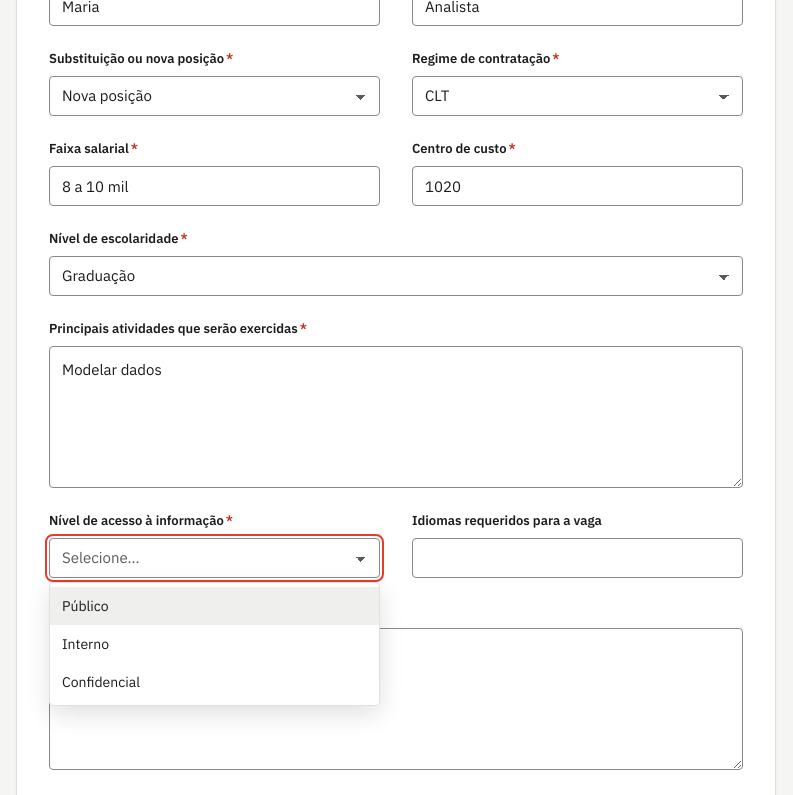
Test: Requisição › envia a Contratação e mostra a confirmação com os valores legíveis
The width and height of the screenshot is (793, 795).
Earlier steps of the test are not shown.
(page scrolled)
Click the option "Interno".
click(86, 644)  # box x1=62 y1=635 x2=109 y2=653
(page scrolled)
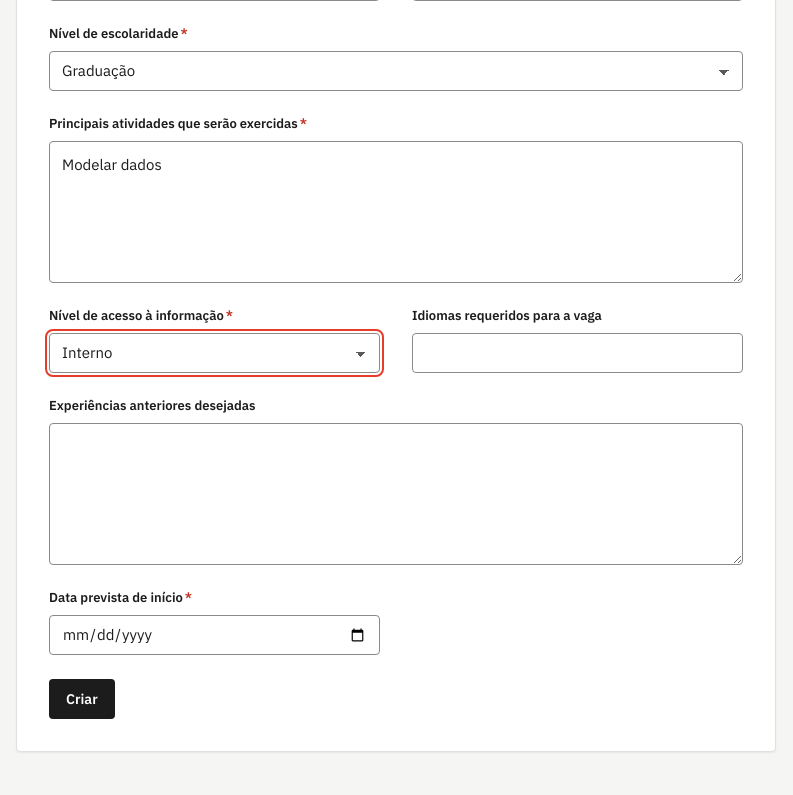
Type "2027-02-01" into the date field labelled "Data prevista de início*".
click(214, 635); type("2027-02-01")  # box x1=49 y1=615 x2=380 y2=655
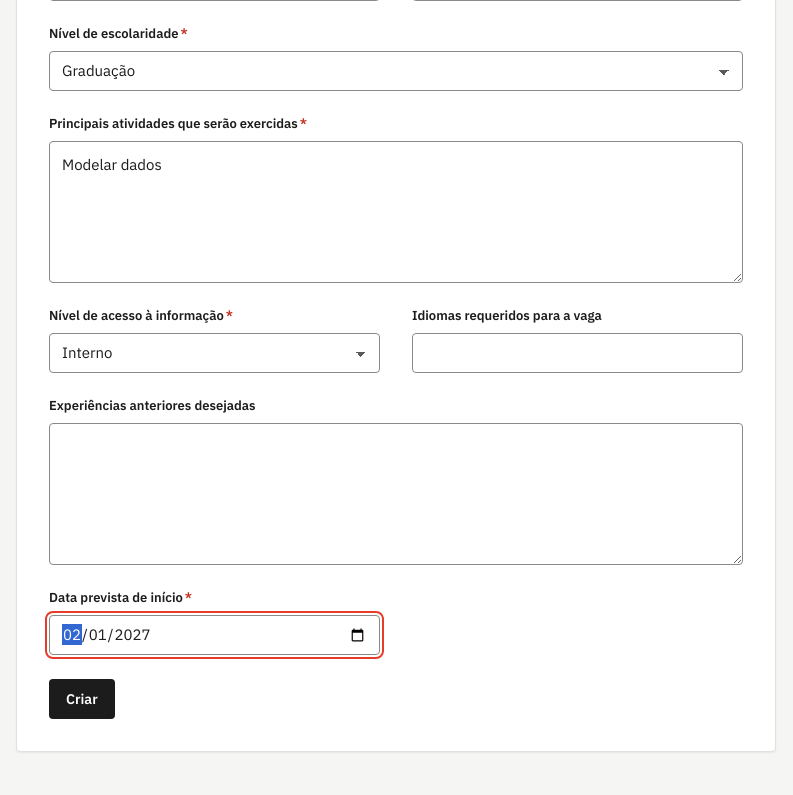
Click the button "Criar".
click(82, 699)  # box x1=49 y1=679 x2=115 y2=719
(page scrolled)
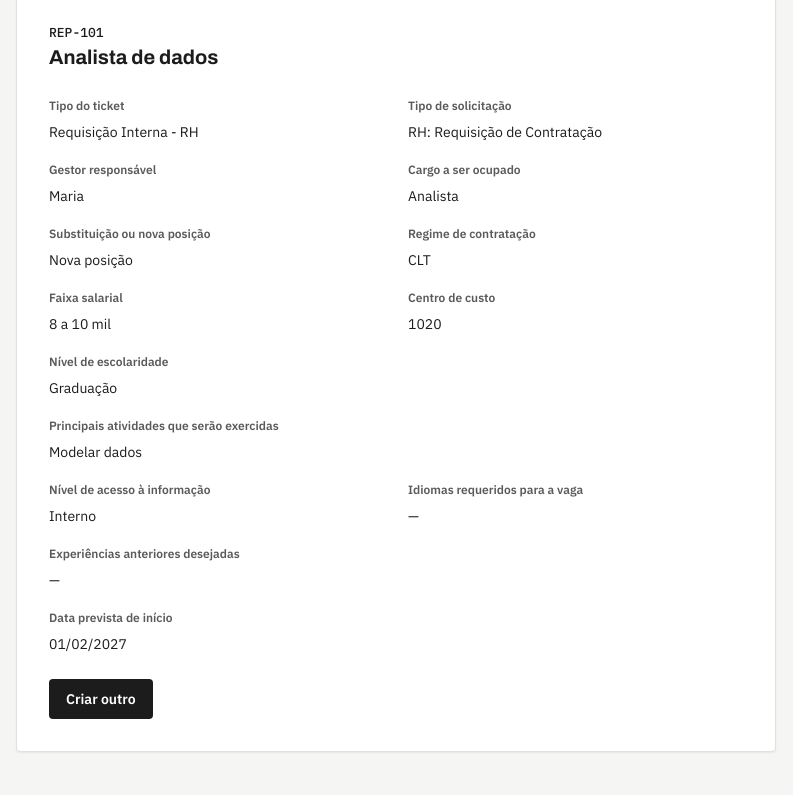
Check: the text "REP-101" is shown, box x1=49 y1=24 x2=104 y2=41
Check: the text "Requisição Interna - RH" is shown, box x1=49 y1=123 x2=199 y2=141
Check: the text "RH: Requisição de Contratação" is shown, box x1=408 y1=123 x2=602 y2=141
